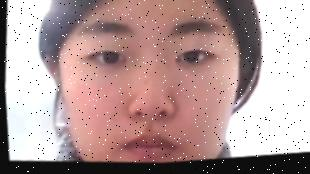eye: (101, 51, 119, 70), (182, 54, 200, 67)
iris: (82, 50, 123, 71), (174, 50, 215, 70)
